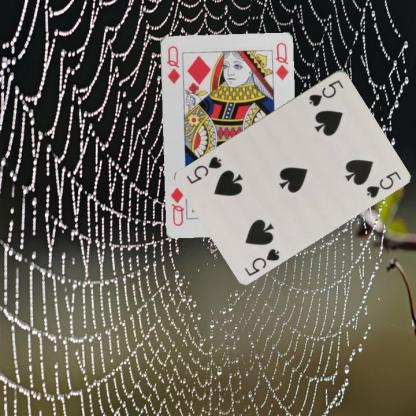5s: (242, 245, 282, 276), (307, 76, 344, 107)
Qd: (164, 43, 181, 85)
